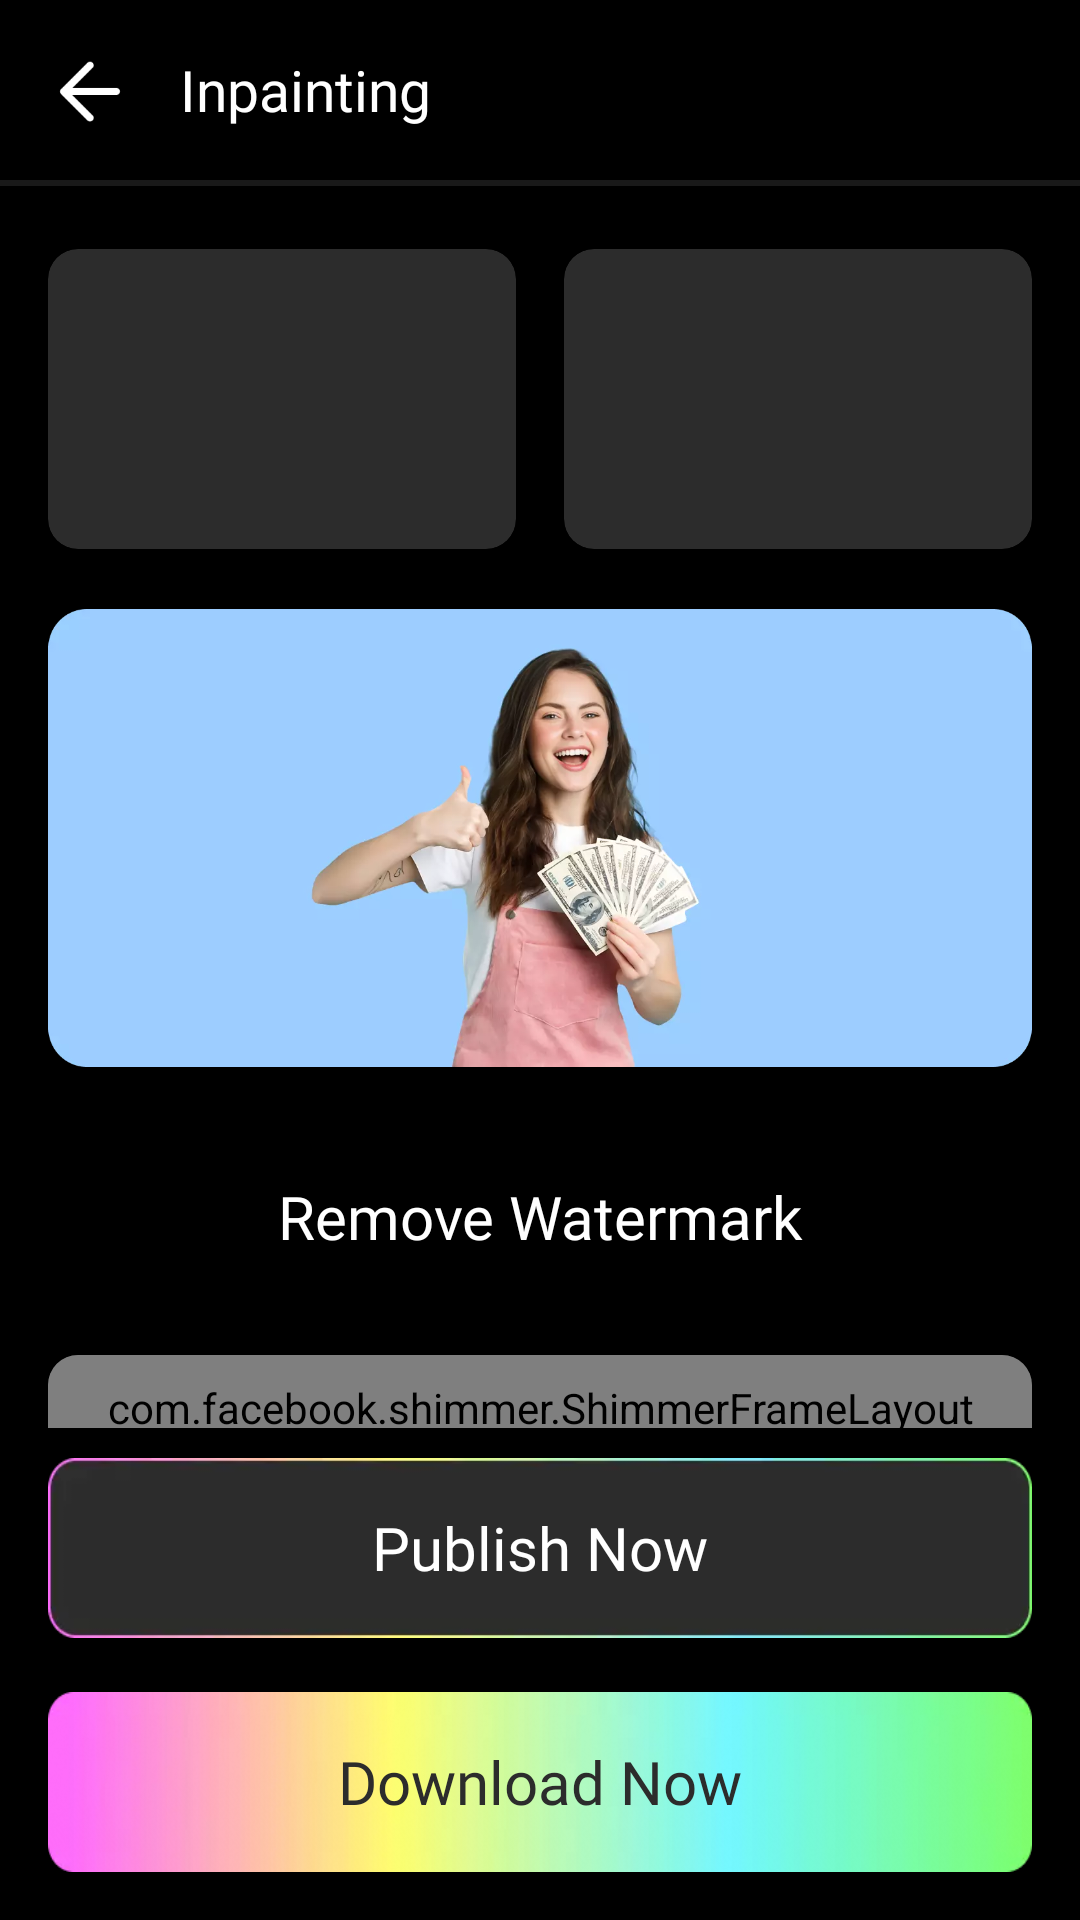

Icon click points for this 1080w x 1920h phone screenshot, format [x,y]:
back: [90,91]
